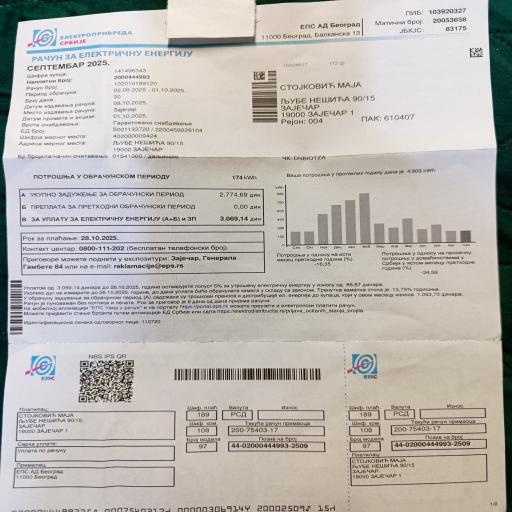racun_za_struju: (13, 168, 272, 244)
